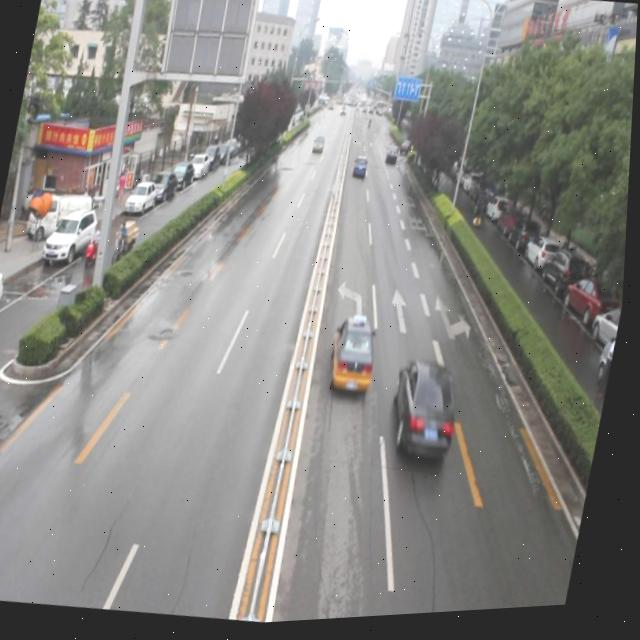car: (387, 357, 470, 468), (326, 312, 387, 403), (352, 158, 371, 182), (312, 137, 327, 158), (385, 149, 400, 168)
